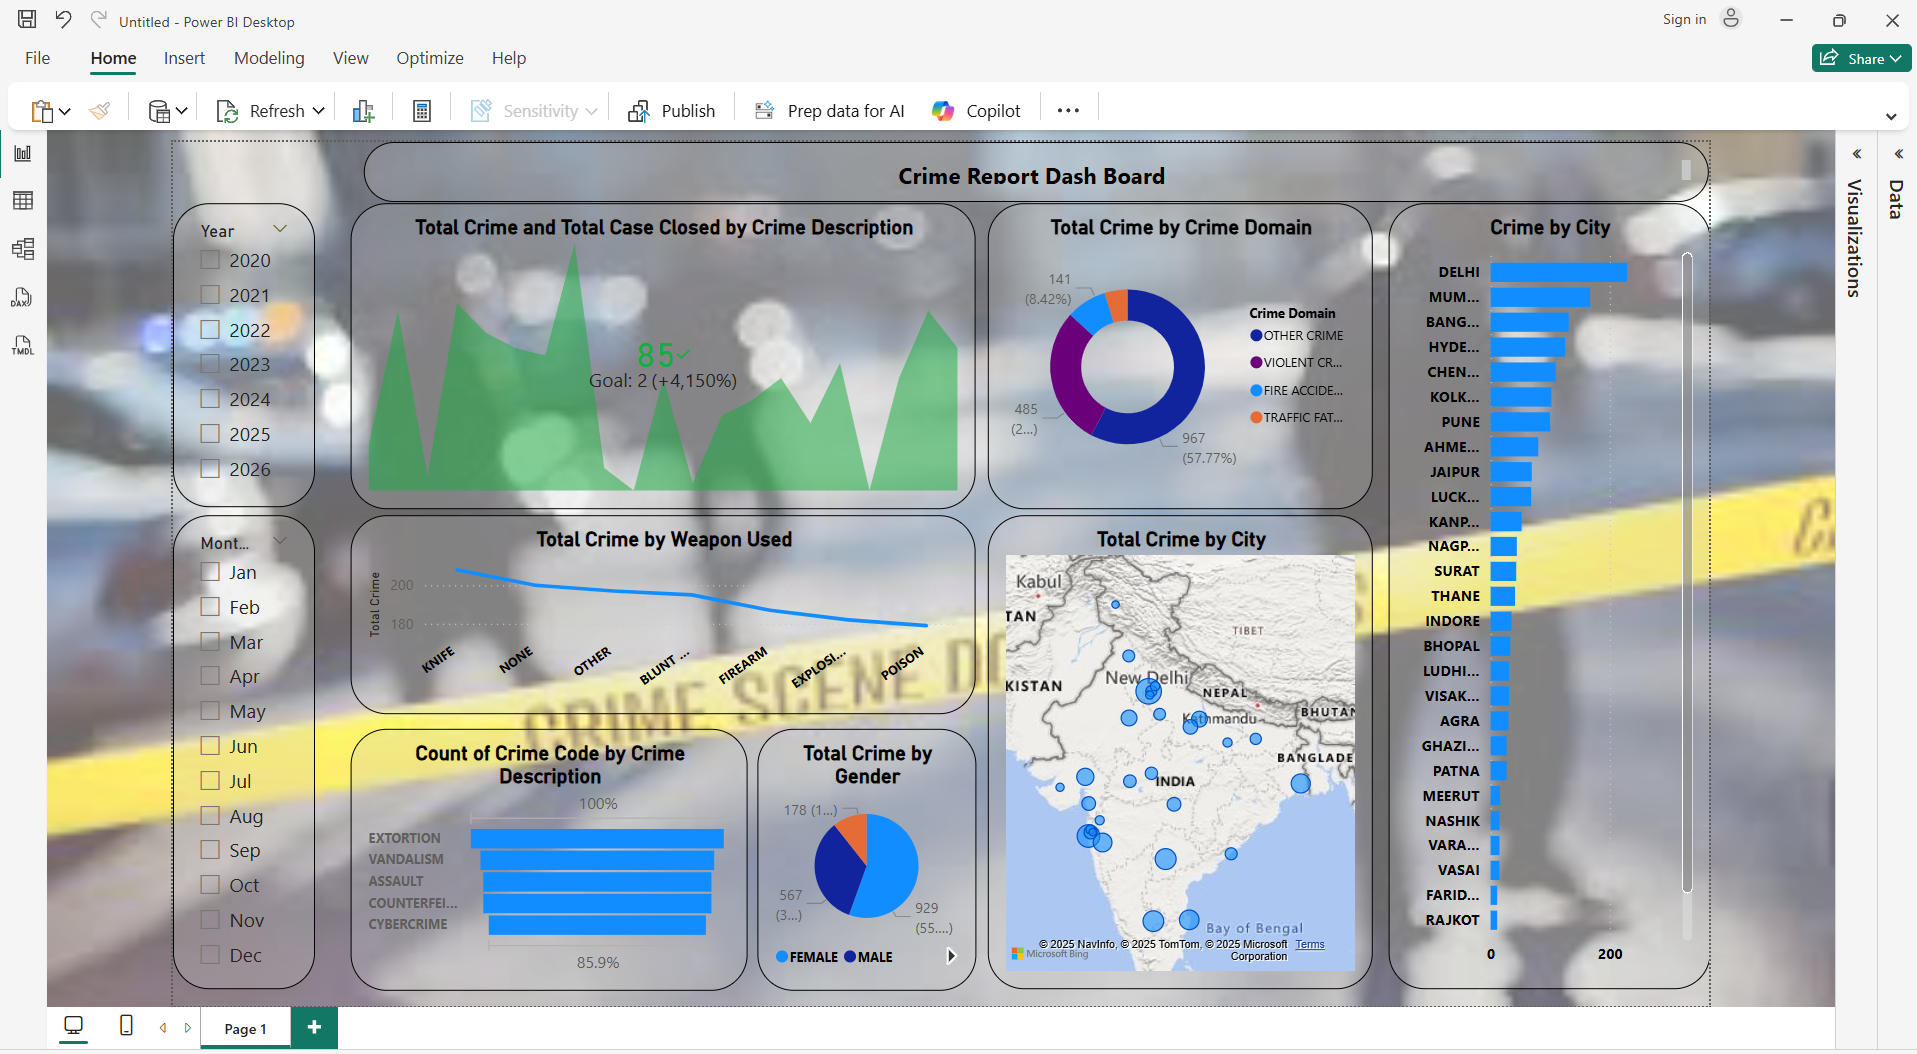

The dashboard page shown, as its layout file describes it:
{"tool":"powerbi","page":{"name":"Page 1","canvas":[1280,720],"ordinal":0},"visuals":[{"type":"slicer","fields":{"Values":["Date.Month Name"]},"box":[0,310.8,117.5,395.4],"z":3},{"type":"slicer","fields":{"Values":["Date.Year"]},"box":[0,50.5,117.5,253.7],"z":4},{"type":"kpi","fields":{"Indicator":["CountNonNull(crime_dataset_india.Crime Code)"],"TrendLine":["crime_dataset_india.Crime Description"],"Goal":["Count(crime_dataset_india.Case Closed)"]},"box":[147.8,51.1,521.1,254.4],"z":5},{"type":"barChart","fields":{"Category":["crime_dataset_india.City"],"Y":["CountNonNull(crime_dataset_india.Crime Code)"]},"box":[1012.6,50.5,268,655.6],"z":6},{"type":"map","fields":{"Category":["crime_dataset_india.City"],"Size":["Count(crime_dataset_india.Crime Code)"]},"box":[678.9,311.1,321.1,394.4],"z":7},{"type":"lineChart","fields":{"Y":["Count(crime_dataset_india.Crime Code)"],"Category":["crime_dataset_india.Weapon Used"]},"box":[147.8,311.1,521.1,165.6],"z":8},{"type":"donutChart","fields":{"Category":["crime_dataset_india.Crime Domain"],"Y":["CountNonNull(crime_dataset_india.Crime Code)"]},"box":[678.9,51.1,321.1,254.4],"z":9},{"type":"funnel","fields":{"Category":["crime_dataset_india.Crime Description"],"Y":["Count(crime_dataset_india.Crime Code)"]},"box":[147.8,488.9,331.1,217.8],"z":10},{"type":"pieChart","fields":{"Category":["crime_dataset_india.Victim Gender"],"Y":["CountNonNull(crime_dataset_india.Crime Code)"]},"box":[486.7,488.9,182.2,217.8],"z":11},{"type":"textbox","box":[158.9,0,1121.1,50],"z":13}]}

Visuals, with their boxes on the page's 1280x720 design canvas (x1, y1, x2, y2). These are canvas units, not pixel positions in the 1917x1054 screenshot, which may show the page scaled, cropped or inside an application window:
slicer - Date.Month Name: [0,311,118,706]
slicer - Date.Year: [0,50,118,304]
kpi - CountNonNull(crime_dataset_india.Crime Code) x crime_dataset_india.Crime Description: [148,51,669,306]
barChart - crime_dataset_india.City x CountNonNull(crime_dataset_india.Crime Code): [1013,50,1281,706]
map - crime_dataset_india.City x Count(crime_dataset_india.Crime Code): [679,311,1000,706]
lineChart - Count(crime_dataset_india.Crime Code) x crime_dataset_india.Weapon Used: [148,311,669,477]
donutChart - crime_dataset_india.Crime Domain x CountNonNull(crime_dataset_india.Crime Code): [679,51,1000,306]
funnel - crime_dataset_india.Crime Description x Count(crime_dataset_india.Crime Code): [148,489,479,707]
pieChart - crime_dataset_india.Victim Gender x CountNonNull(crime_dataset_india.Crime Code): [487,489,669,707]
textbox: [159,0,1280,50]
